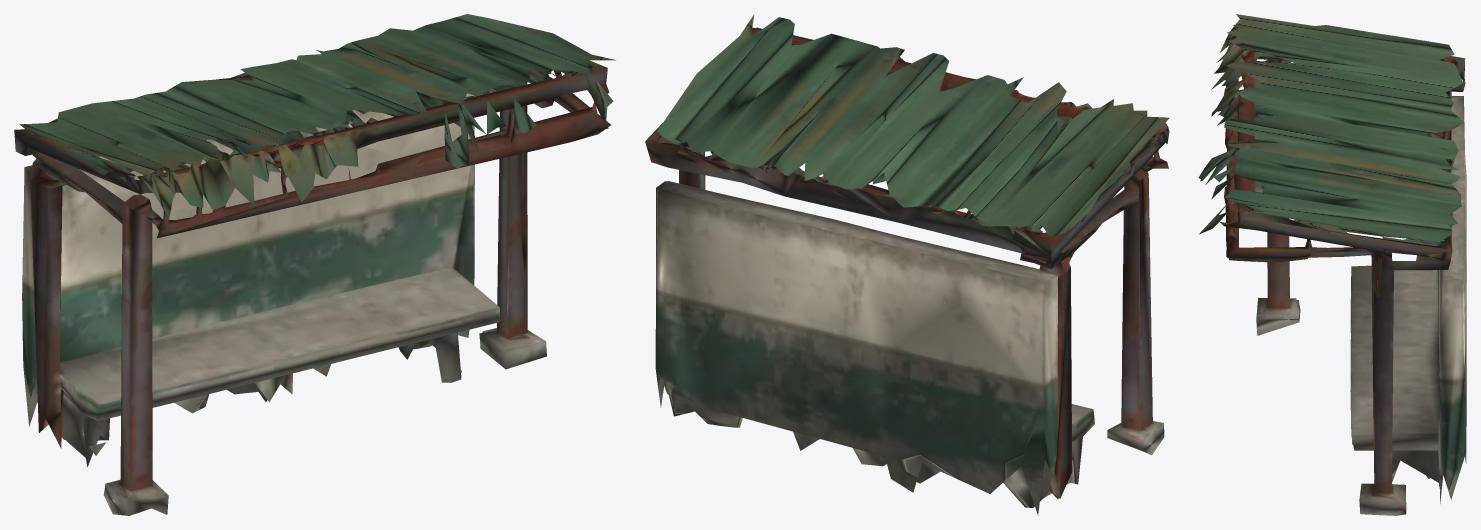
File: waiting-shed.glb
3 views of the same model, side by side, from view 1: azimuth 30°, elevation 25°; view 2: azimuth 150°, elevation 25°; view 3: azimuth 270°, elevation 25° (orthographic). The views are drawn at different scales.
Visible parts, largest first — view 1: geometry_0; view 2: geometry_0; view 3: geometry_0.
Part boxes in pixels (x1=…): geometry_0: x1=14, y1=14, x2=615, y2=515; geometry_0: x1=645, y1=14, x2=1169, y2=515; geometry_0: x1=1198, y1=14, x2=1466, y2=515.
Size of the model in its own units: 1.36 by 0.9944 by 0.7597.
1 material, 1 textured.
